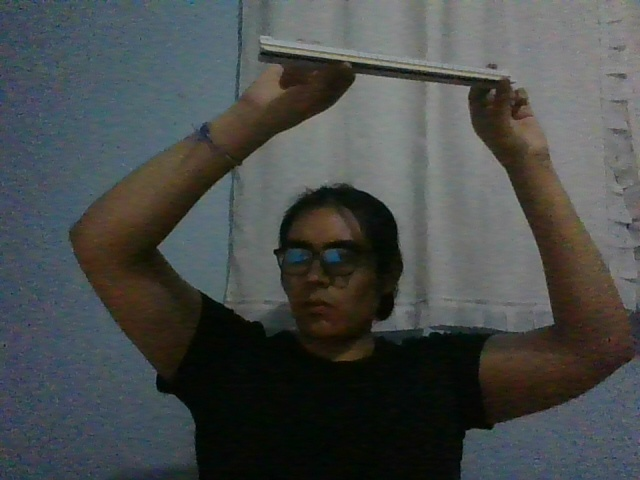regla: (258, 35, 512, 89)
